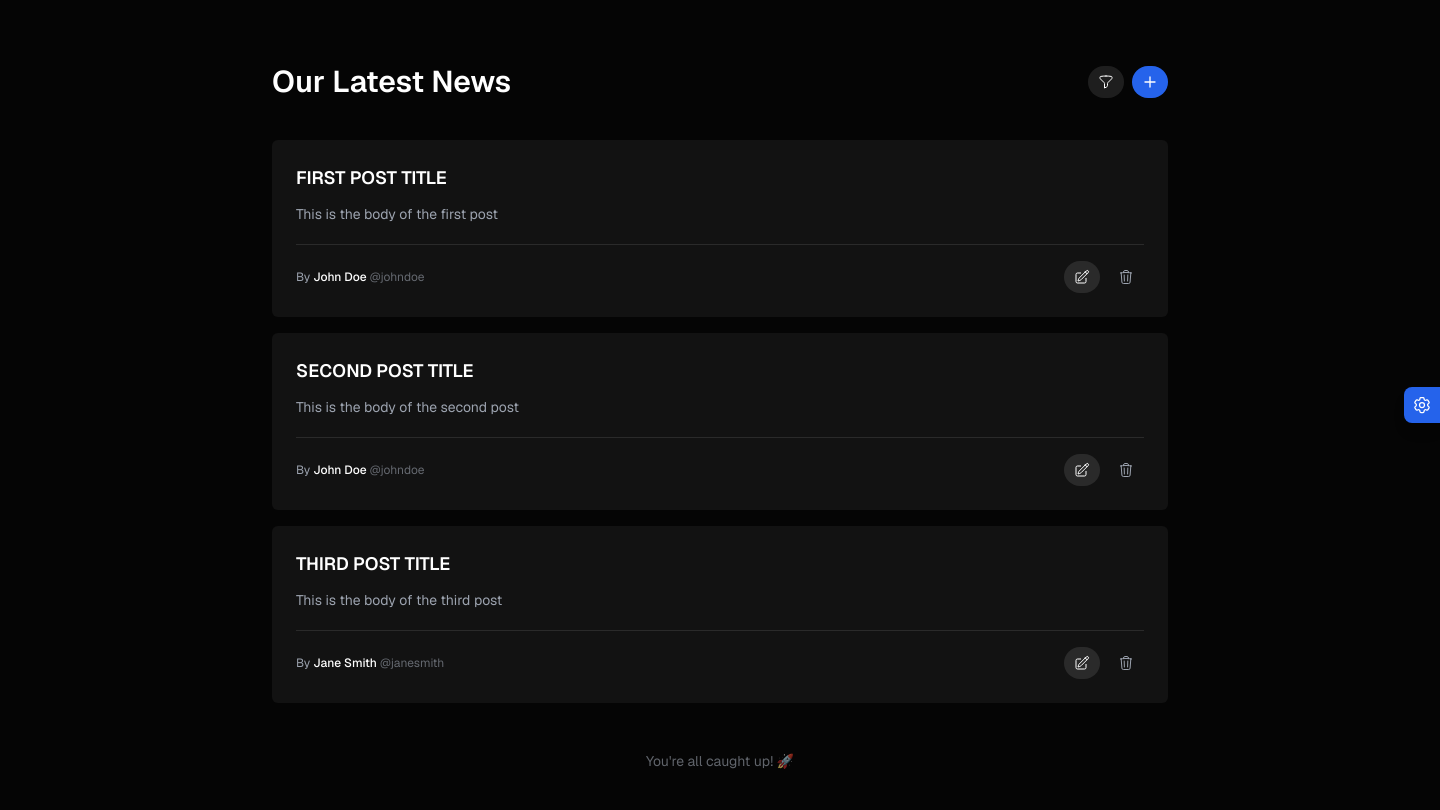
Posts Page › Delete Functionality › should delete post when confirm is clicked
Expected: the heading "First Post Title" is shown, [296,166,447,189]
Step 1. Click the 4th button named "delete" → x=1126, y=277, box [1108,261,1144,293]
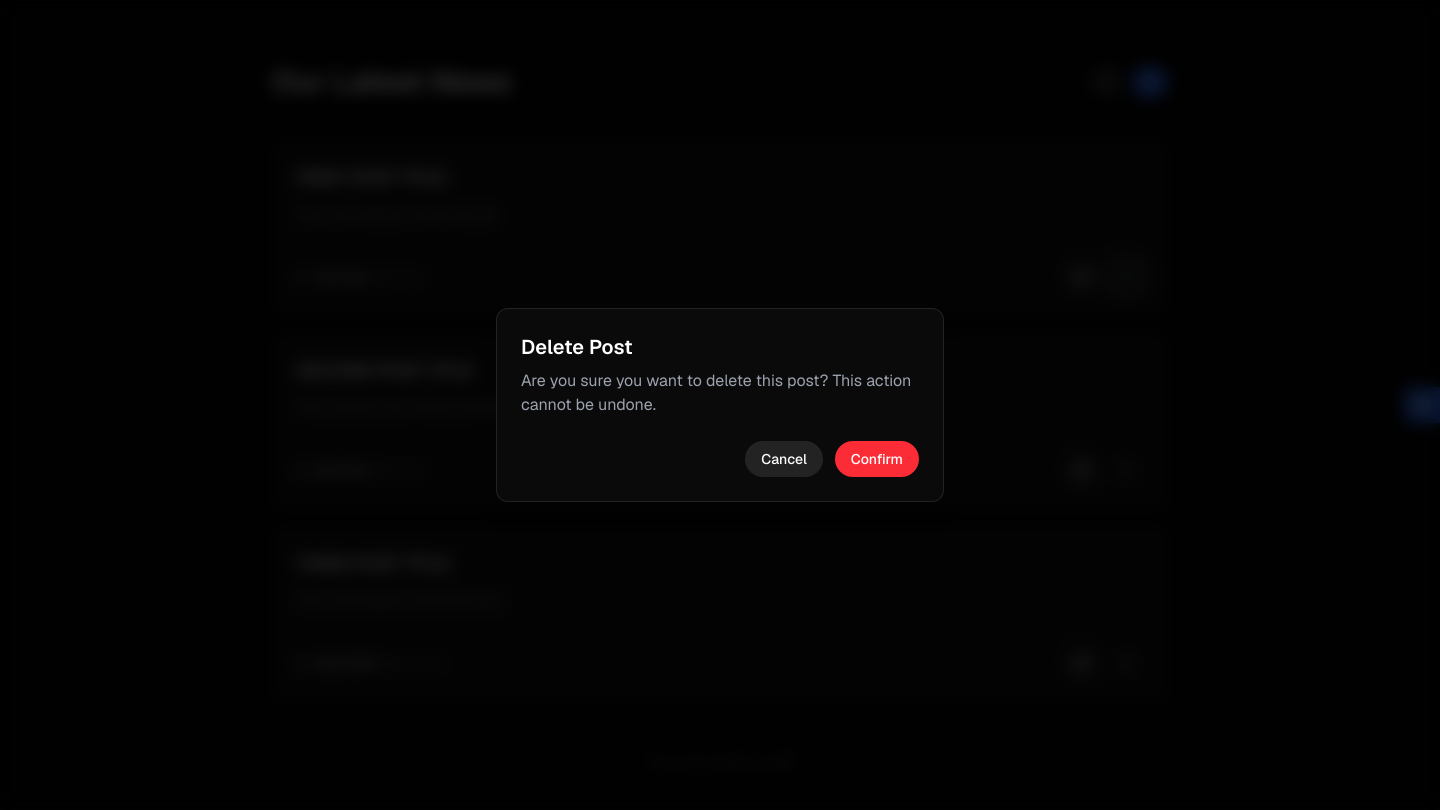
Step 2. Click the button "Confirm" → x=877, y=459, box [835,441,919,477]
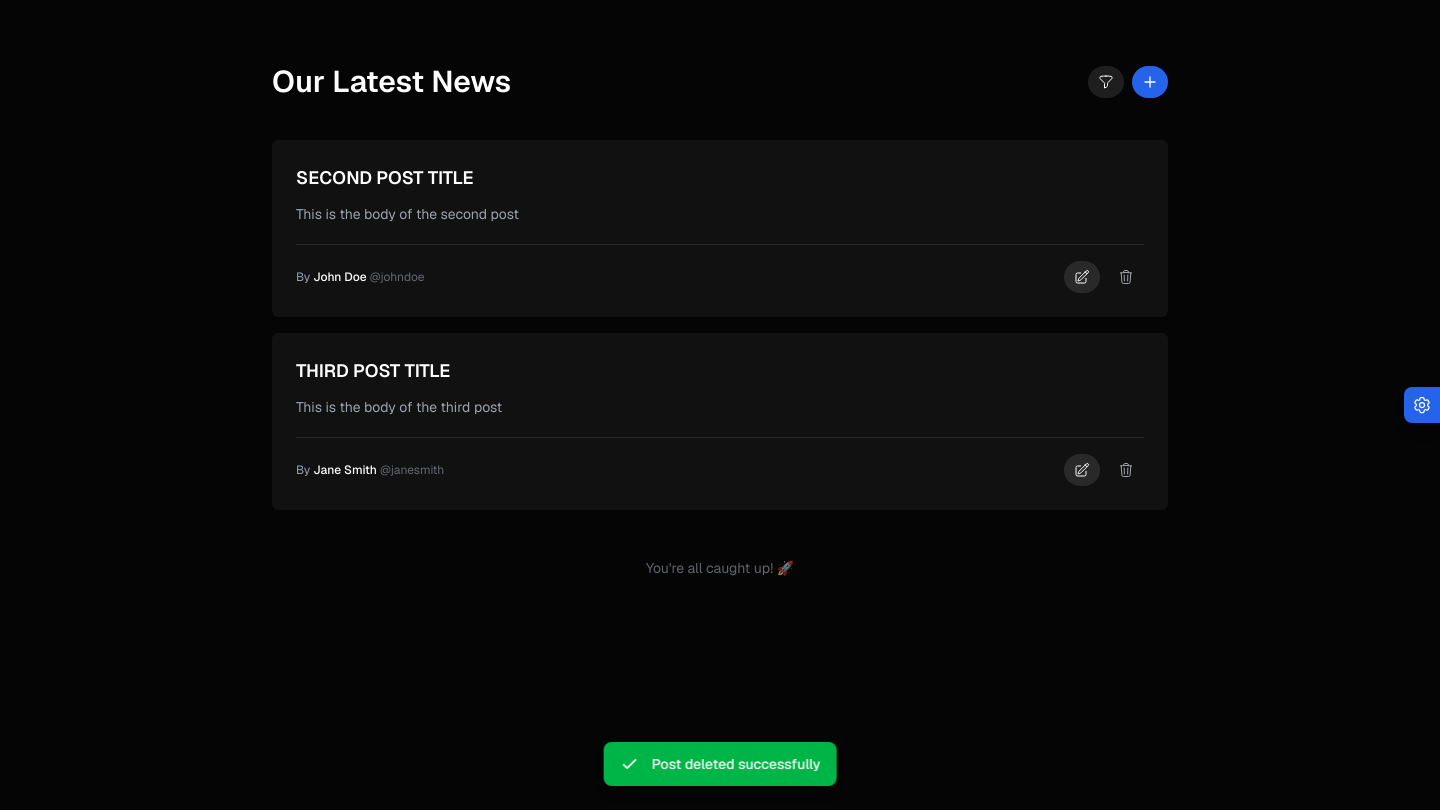
Expected: the heading "First Post Title" is gone
